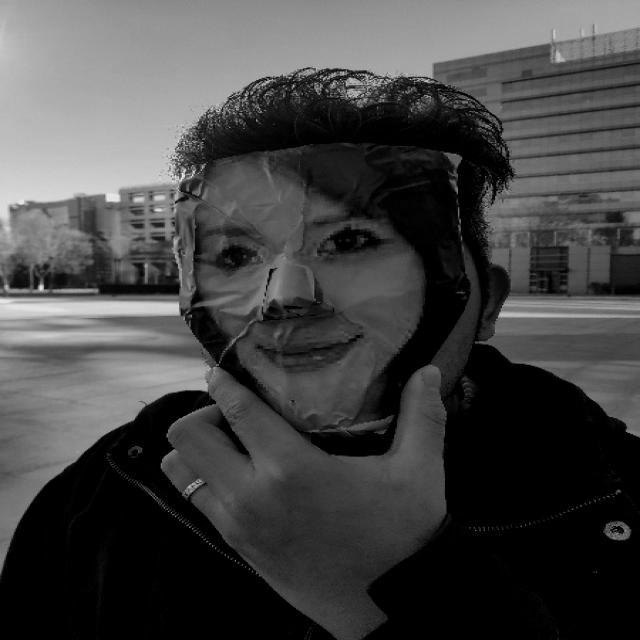fake: (164, 78, 480, 424)
